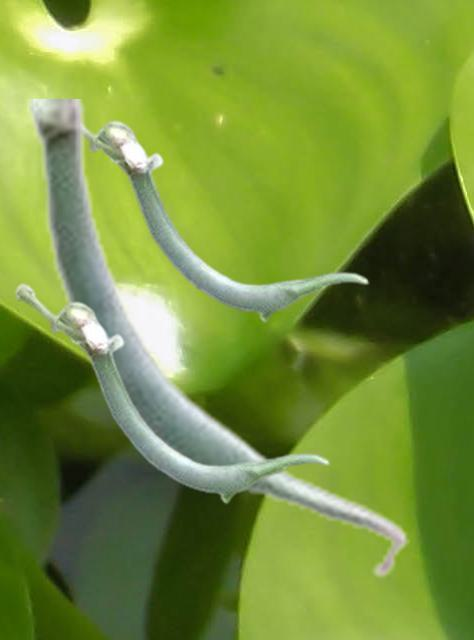french_bean: (27, 99, 408, 580), (14, 282, 329, 503), (86, 117, 368, 322)
